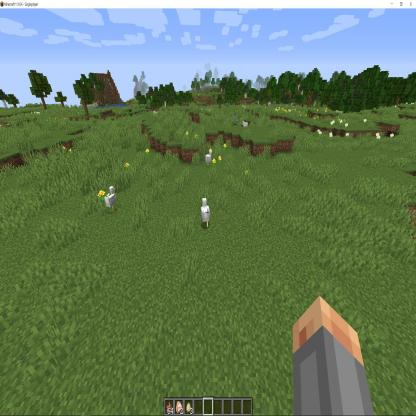minecraft-pigs: (104, 184, 119, 216), (199, 196, 211, 230), (205, 147, 213, 169)
